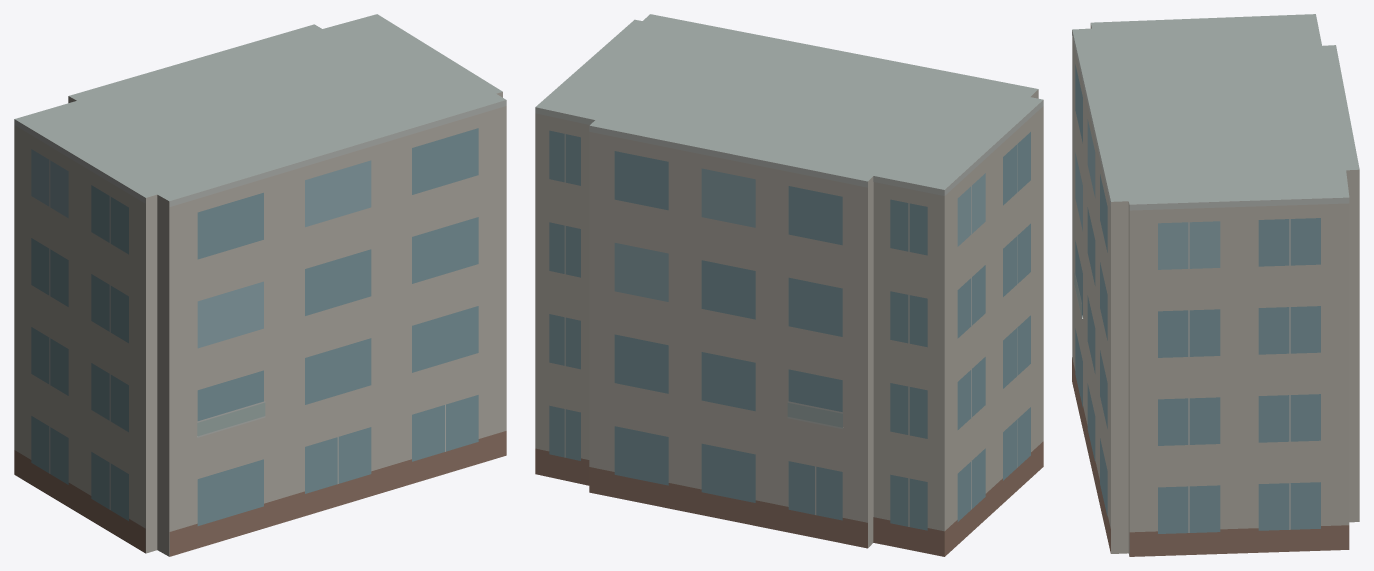
Rendered from survey-upis-32936902.glb.
3 renders of one model, left to right at view 1: azimuth 30°, elevation 25°; view 2: azimuth 150°, elevation 25°; view 3: azimuth 270°, elevation 25°, orthographic. The views are drawn at different scales.
Parts seen in each view (by area): view 1: survey-upis-32936902.tmp; view 2: survey-upis-32936902.tmp; view 3: survey-upis-32936902.tmp.
Part boxes in pixels (bbox=[...]): survey-upis-32936902.tmp: bbox=[14, 14, 506, 556]; survey-upis-32936902.tmp: bbox=[535, 14, 1043, 556]; survey-upis-32936902.tmp: bbox=[1072, 14, 1359, 556].
Bounding box in the file's own units: 16.96 × 14.6 × 10.81.
